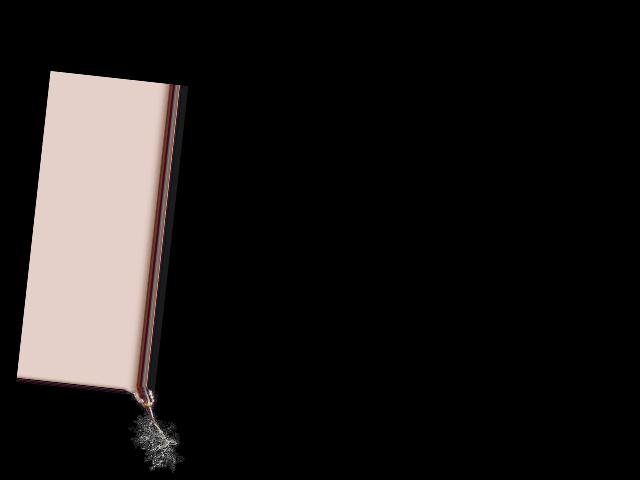beer: (131, 385, 158, 421)
